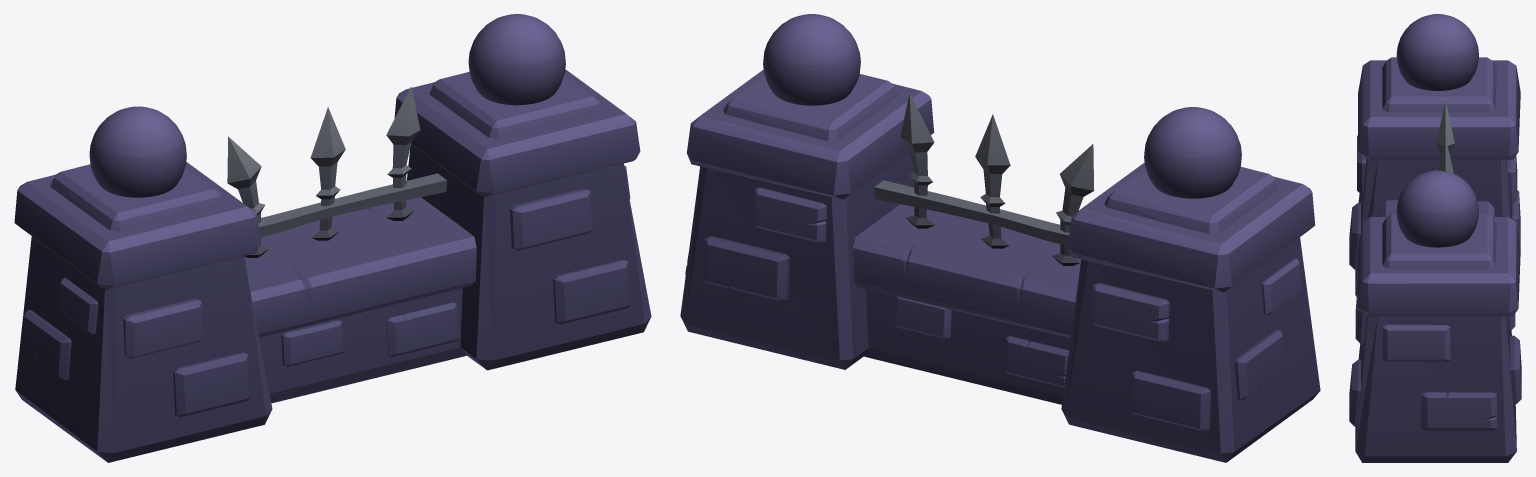
Rendered from fence_short.glb.
3 renders of one model, left to right at view 1: azimuth 30°, elevation 25°; view 2: azimuth 150°, elevation 25°; view 3: azimuth 270°, elevation 25°, orthographic. The views are drawn at different scales.
Parts seen in each view (by area): view 1: fence_short; view 2: fence_short; view 3: fence_short.
Boxes of the visible parts, x1,y1,x2,y2 form: fence_short: (14,14,651,462); fence_short: (680,14,1320,462); fence_short: (1349,14,1521,462).
Bounding box in the file's own units: 5.61 × 2.88 × 1.77.
Materials: 1 (1 with a texture image).
